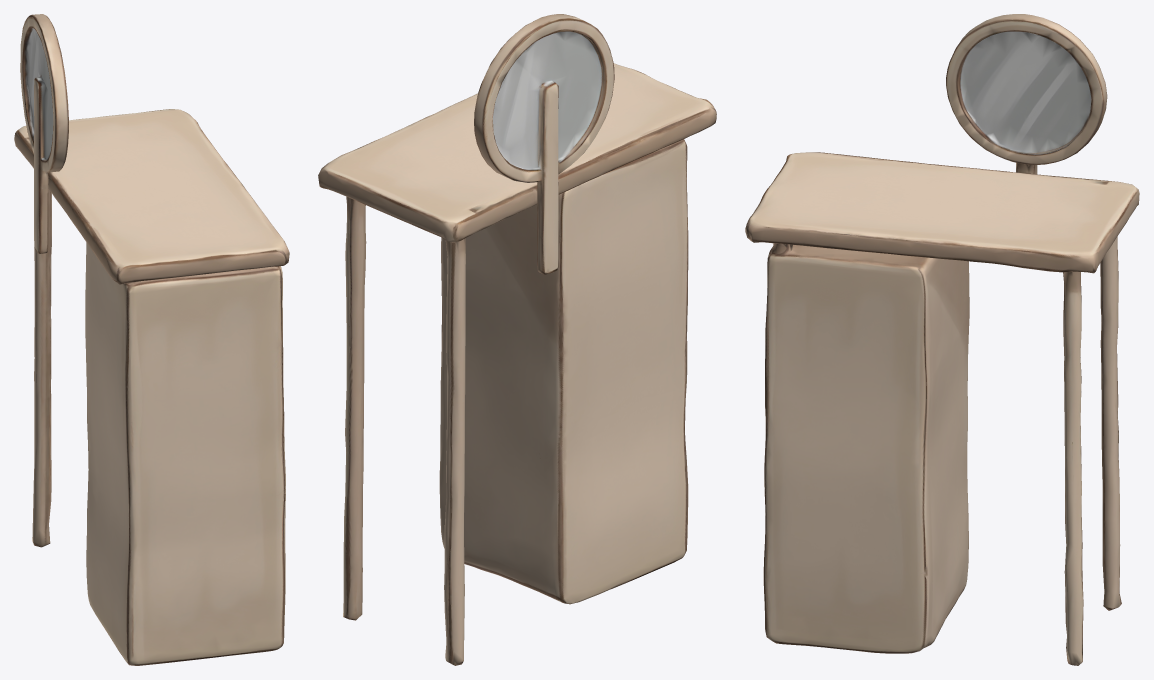
File: raw_vanity.glb
The picture shows the model from 3 angles, left to right: view 1: azimuth 30°, elevation 25°; view 2: azimuth 150°, elevation 25°; view 3: azimuth 270°, elevation 25°; orthographic projection. The views are drawn at different scales.
Parts seen in each view (by area): view 1: tripo_node_ad2f29f4-7ad8-469b-be3c-b2472c7d8dbd; view 2: tripo_node_ad2f29f4-7ad8-469b-be3c-b2472c7d8dbd; view 3: tripo_node_ad2f29f4-7ad8-469b-be3c-b2472c7d8dbd.
Boxes of the visible parts, bbox=[...] form: tripo_node_ad2f29f4-7ad8-469b-be3c-b2472c7d8dbd: bbox=[14, 14, 289, 665]; tripo_node_ad2f29f4-7ad8-469b-be3c-b2472c7d8dbd: bbox=[318, 14, 716, 665]; tripo_node_ad2f29f4-7ad8-469b-be3c-b2472c7d8dbd: bbox=[745, 14, 1139, 665].
Size of the model in its own units: 0.402 by 1 by 0.6251.
1 material, 1 textured.
